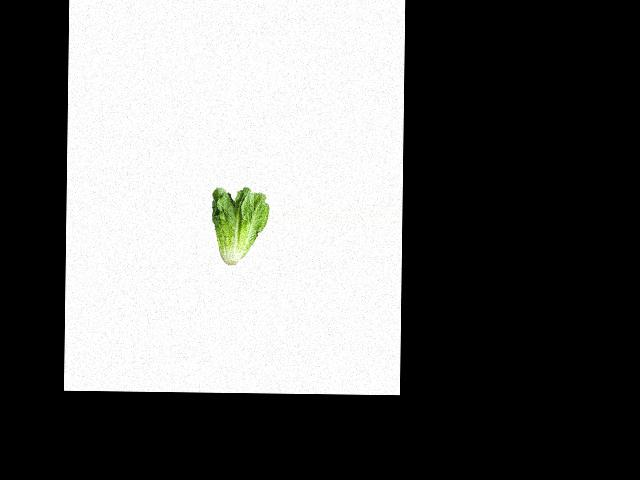lettuce: (209, 186, 268, 267)
